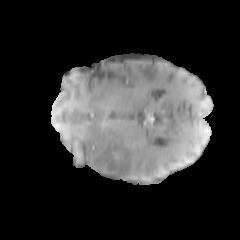glioma: (83, 134, 161, 181)
